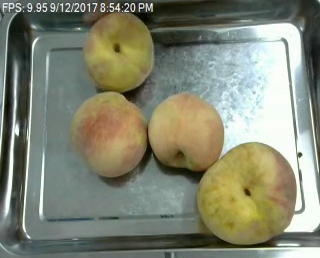Peach: (196, 141, 298, 246), (69, 91, 146, 177), (149, 93, 226, 170), (83, 11, 154, 91)
